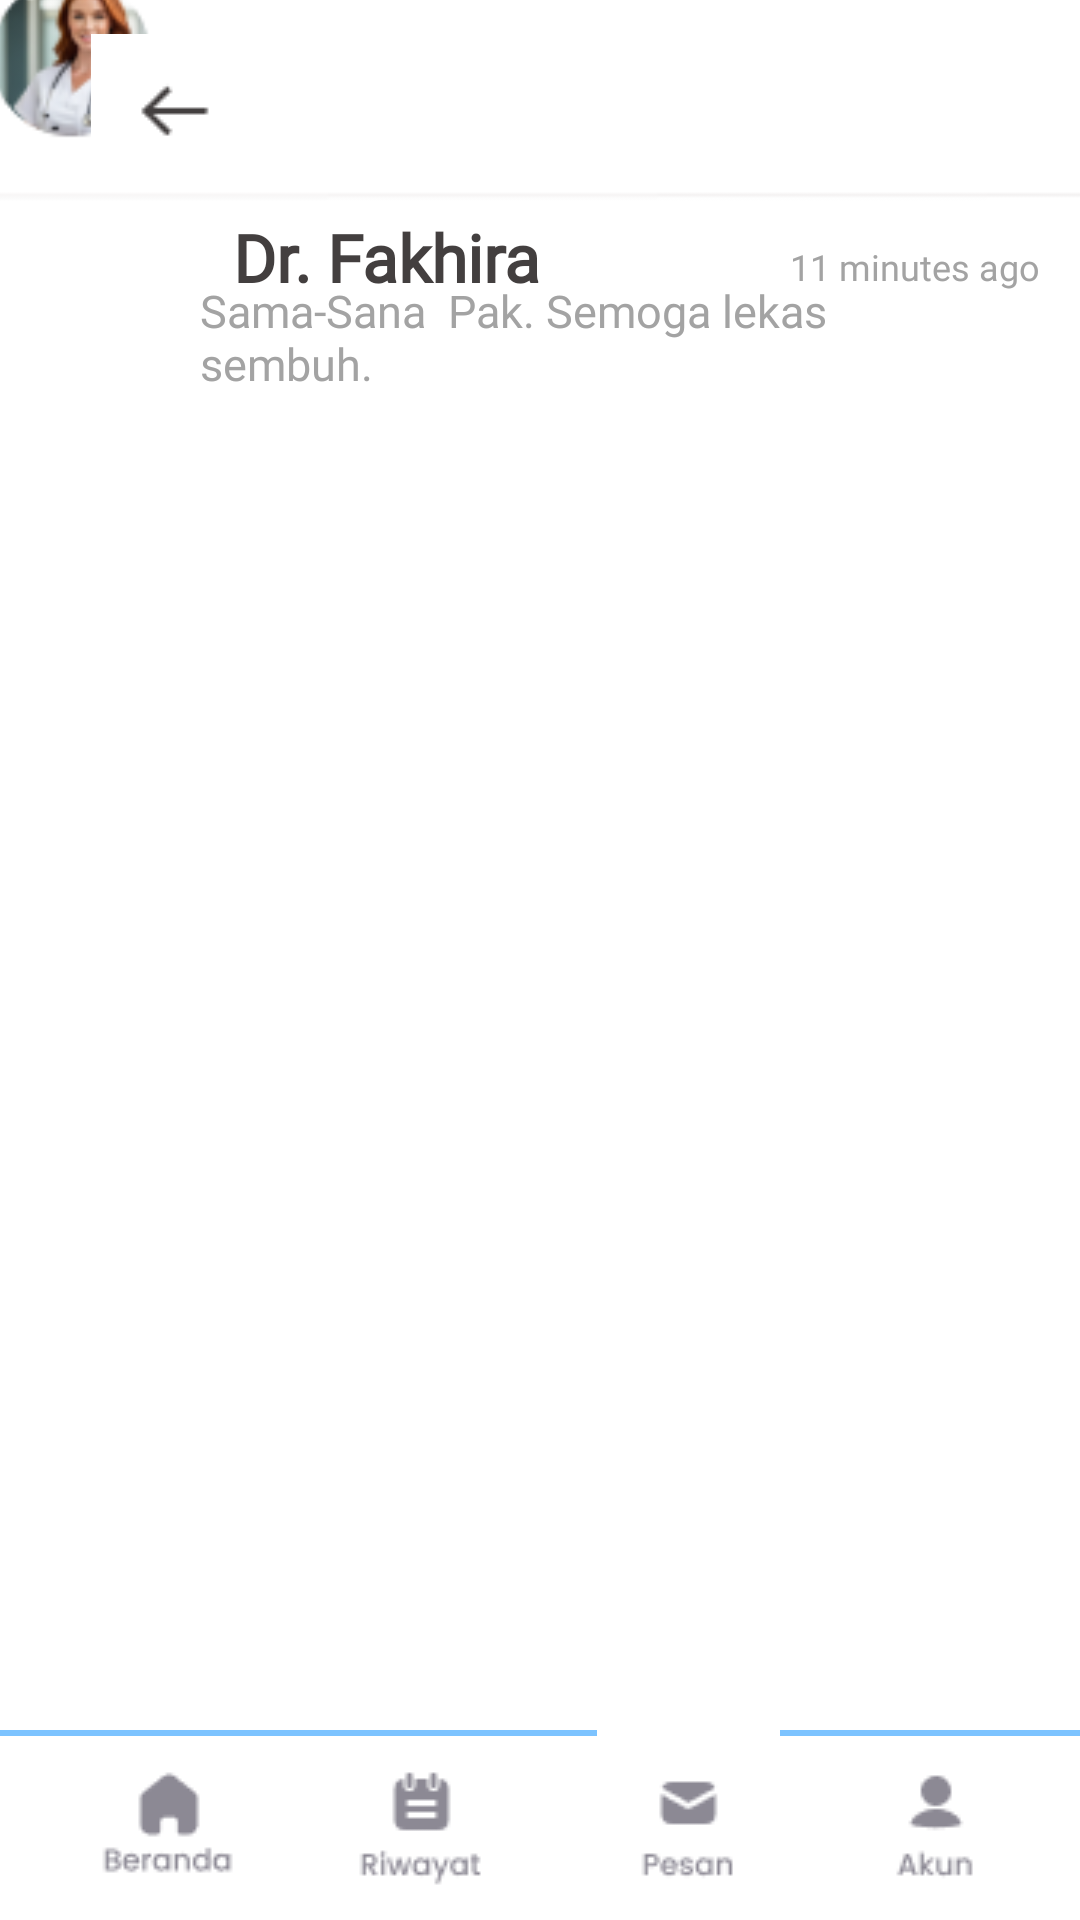

Where icons sit on this 1080w x 1920h app screen, as box(x1, y1, x2, y2):
arrowleft: box(141, 86, 209, 136)
